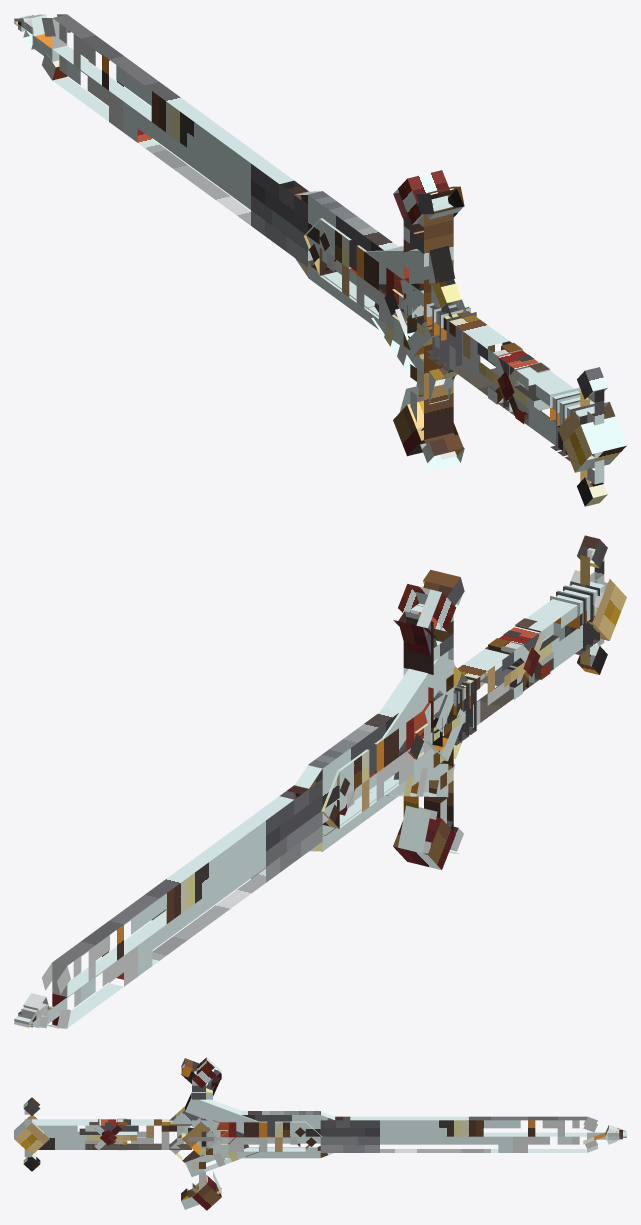
The model's file is herrscher.obj.
The picture shows the model from 3 angles, top to bottom: view 1: azimuth 30°, elevation 25°; view 2: azimuth 150°, elevation 25°; view 3: azimuth 270°, elevation 25°; orthographic projection. The views are drawn at different scales.
Visible parts, largest first — view 1: cube.063; view 2: cube.063; view 3: cube.063.
Boxes of the visible parts, x1=… form: cube.063: x1=14, y1=14, x2=626, y2=506; cube.063: x1=14, y1=535, x2=626, y2=1028; cube.063: x1=14, y1=1057, x2=626, y2=1210.
Bounding box in the file's own units: 0.0718 × 0.5365 × 2.06.
